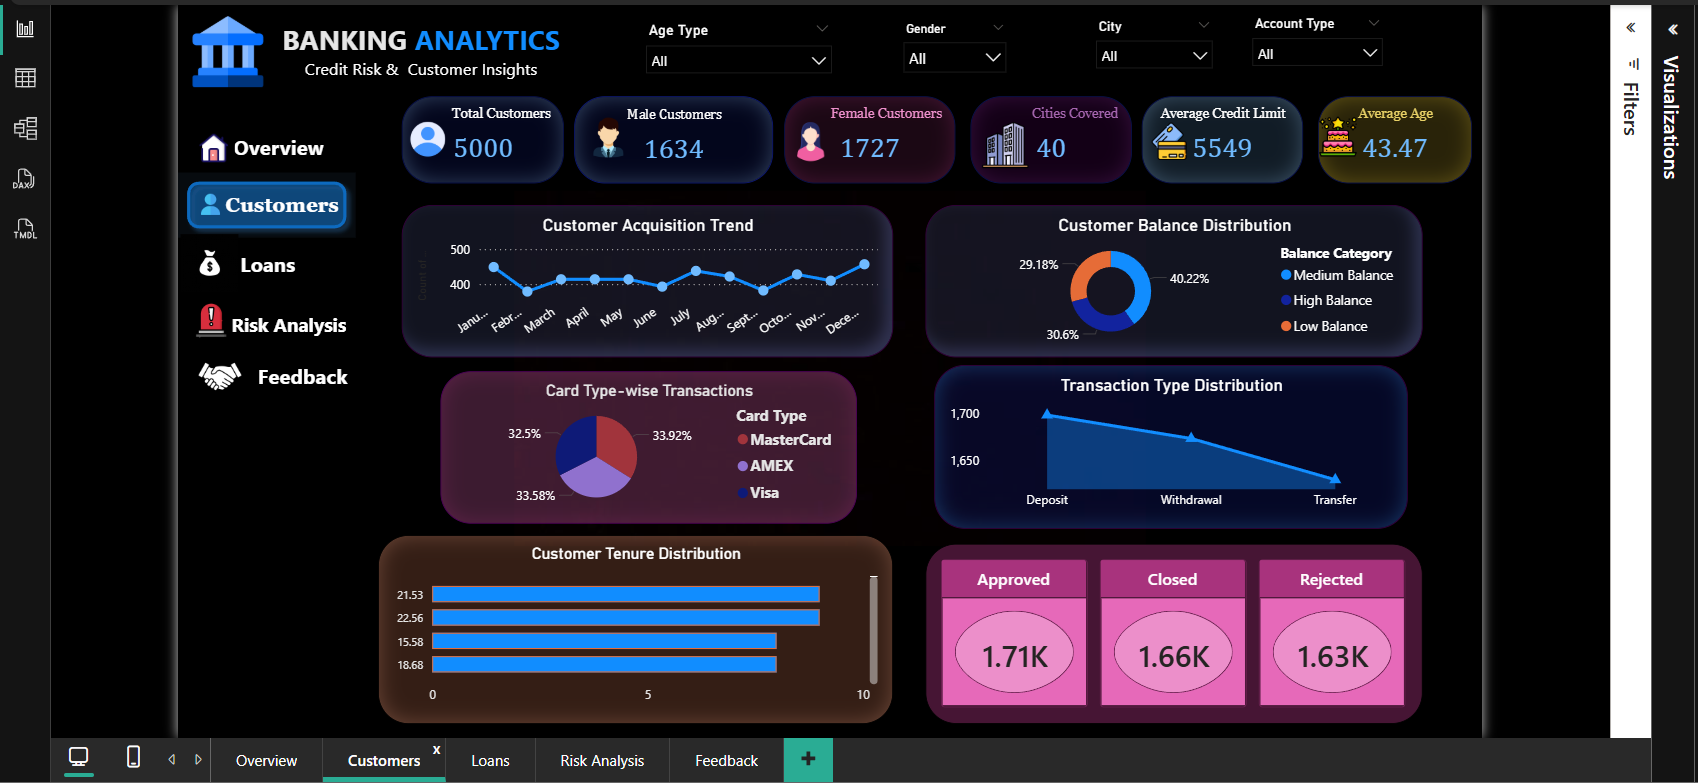

This screenshot's page, from the dashboard's own definition file:
{"tool":"powerbi","page":{"name":"Customers","canvas":[1280,720],"ordinal":1},"visuals":[{"type":"image","box":[9.8,11,78.5,69.9],"z":0},{"type":"textbox","box":[88.3,11,300.6,67.5],"z":1000},{"type":"actionButton","title":"Overview","box":[0,114.1,150.9,50.3],"z":2000},{"type":"actionButton","box":[0,164.4,174.2,63.8],"z":3000},{"type":"actionButton","title":"Overview","box":[0,228.2,122.7,50.3],"z":4000},{"type":"actionButton","title":"Overview","box":[1.2,338.7,173,50.3],"z":5000},{"type":"actionButton","title":"Overview","box":[9.8,288.3,163.2,50.3],"z":6000},{"type":"image","box":[14.7,185.3,34.4,20.9],"z":7000},{"type":"image","box":[2.5,223.3,56.4,60.1],"z":8000},{"type":"image","box":[1.2,332.5,79.8,63.8],"z":9000},{"type":"image","box":[14.7,126.4,40.5,28.2],"z":10000},{"type":"slicer","fields":{"Values":["Banking_Analysis.Age Type"]},"box":[449.1,11,202.5,58.9],"z":11000},{"type":"slicer","fields":{"Values":["Banking_Analysis.Gender"]},"box":[701.8,11,121.5,55.2],"z":12000},{"type":"slicer","fields":{"Values":["Banking_Analysis.City"]},"box":[890.8,8.6,135,57.7],"z":13000},{"type":"slicer","fields":{"Values":["Banking_Analysis.Account Type"]},"box":[1044.2,6.1,148.5,62.6],"z":14000},{"type":"card","title":"Total Customers","fields":{"Values":["Banking_Analysis.Total Customers"]},"box":[219.6,89.6,159.5,85.9],"z":15000},{"type":"card","title":"Male Customers","fields":{"Values":["Banking_Analysis.Male Customers"]},"box":[389,89.6,195.1,85.9],"z":16000},{"type":"card","title":"Cities Covered","fields":{"Values":["Banking_Analysis.Cities Covered"]},"box":[777.9,89.6,158.3,85.9],"z":17000},{"type":"card","title":"Female Customers","fields":{"Values":["Banking_Analysis.Female Customers"]},"box":[595.1,89.6,168.1,85.9],"z":18000},{"type":"card","title":"Average Credit  Limit","fields":{"Values":["Banking_Analysis.Average Credit Limit"]},"box":[946,89.6,158.3,85.9],"z":19000},{"type":"card","title":"Average Age","fields":{"Values":["Banking_Analysis.Average Age"]},"box":[1119,89.6,150.9,85.9],"z":20000},{"type":"image","box":[219.6,114.1,51.5,35.6],"z":21000},{"type":"image","box":[401.2,110.4,42.9,39.3],"z":22000},{"type":"image","box":[595.1,108,51.5,50.3],"z":23000},{"type":"image","box":[786.5,114.1,51.5,46.6],"z":24000},{"type":"image","box":[947.2,115.3,51.5,36.8],"z":25000},{"type":"image","box":[1119,108,39.3,41.7],"z":26000},{"type":"lineChart","title":"Customer  Acquisition Trend","fields":{"Category":["Banking_Analysis.Date Of Account Opening.Variation.Date Hierarchy.Month"],"Y":["CountNonNull(Banking_Analysis.Customer ID)"]},"box":[219.6,196.3,482.2,149.7],"z":27000},{"type":"donutChart","title":"Customer  Balance Distribution","fields":{"Y":["CountNonNull(Banking_Analysis.Customer ID)"],"Category":["Banking_Analysis.Balance Category"]},"box":[733.7,196.3,488.3,149.7],"z":28000},{"type":"image","box":[12.3,288.3,40.5,40.5],"z":29000},{"type":"areaChart","title":"Transaction Type Distribution","fields":{"Category":["Banking_Analysis.Transaction Type"],"Y":["CountNonNull(Banking_Analysis.TransactionID)"]},"box":[742.3,353.4,465,160.7],"z":30000},{"type":"pieChart","title":"Card Type-wise Transactions","fields":{"Category":["Banking_Analysis.Card Type"],"Y":["CountNonNull(Banking_Analysis.TransactionID)"]},"box":[257.7,359.5,408.6,149.7],"z":31000},{"type":"clusteredBarChart","title":"Customer Tenure Distribution","fields":{"Category":["Banking_Analysis.Customer Tenure"],"Y":["CountNonNull(Banking_Analysis.Customer ID)"]},"box":[196.3,520.2,505.5,185.3],"z":32000},{"type":"cardVisual","fields":{"Rows":["Banking_Analysis.Loan Status"],"Data":["CountNonNull(Banking_Analysis.Customer ID)"]},"box":[733.7,528.8,488.3,176.7],"z":33000}]}

Visuals, with their boxes on the page's 1280x720 design canvas (x1, y1, x2, y2). These are canvas units, not pixel positions in the 1698x783 screenshot, which may show the page scaled, cropped or inside an application window:
image: select_region(10, 11, 88, 81)
textbox: select_region(88, 11, 389, 78)
"Overview" actionButton: select_region(0, 114, 151, 164)
actionButton: select_region(0, 164, 174, 228)
"Overview" actionButton: select_region(0, 228, 123, 278)
"Overview" actionButton: select_region(1, 339, 174, 389)
"Overview" actionButton: select_region(10, 288, 173, 339)
image: select_region(15, 185, 49, 206)
image: select_region(2, 223, 59, 283)
image: select_region(1, 332, 81, 396)
image: select_region(15, 126, 55, 155)
slicer - Banking_Analysis.Age Type: select_region(449, 11, 652, 70)
slicer - Banking_Analysis.Gender: select_region(702, 11, 823, 66)
slicer - Banking_Analysis.City: select_region(891, 9, 1026, 66)
slicer - Banking_Analysis.Account Type: select_region(1044, 6, 1193, 69)
"Total Customers" card: select_region(220, 90, 379, 176)
"Male Customers" card: select_region(389, 90, 584, 176)
"Cities Covered" card: select_region(778, 90, 936, 176)
"Female Customers" card: select_region(595, 90, 763, 176)
"Average Credit  Limit" card: select_region(946, 90, 1104, 176)
"Average Age" card: select_region(1119, 90, 1270, 176)
image: select_region(220, 114, 271, 150)
image: select_region(401, 110, 444, 150)
image: select_region(595, 108, 647, 158)
image: select_region(786, 114, 838, 161)
image: select_region(947, 115, 999, 152)
image: select_region(1119, 108, 1158, 150)
"Customer  Acquisition Trend" lineChart: select_region(220, 196, 702, 346)
"Customer  Balance Distribution" donutChart: select_region(734, 196, 1222, 346)
image: select_region(12, 288, 53, 329)
"Transaction Type Distribution" areaChart: select_region(742, 353, 1207, 514)
"Card Type-wise Transactions" pieChart: select_region(258, 360, 666, 509)
"Customer Tenure Distribution" clusteredBarChart: select_region(196, 520, 702, 706)
cardVisual - Banking_Analysis.Loan Status x CountNonNull(Banking_Analysis.Customer ID): select_region(734, 529, 1222, 706)
